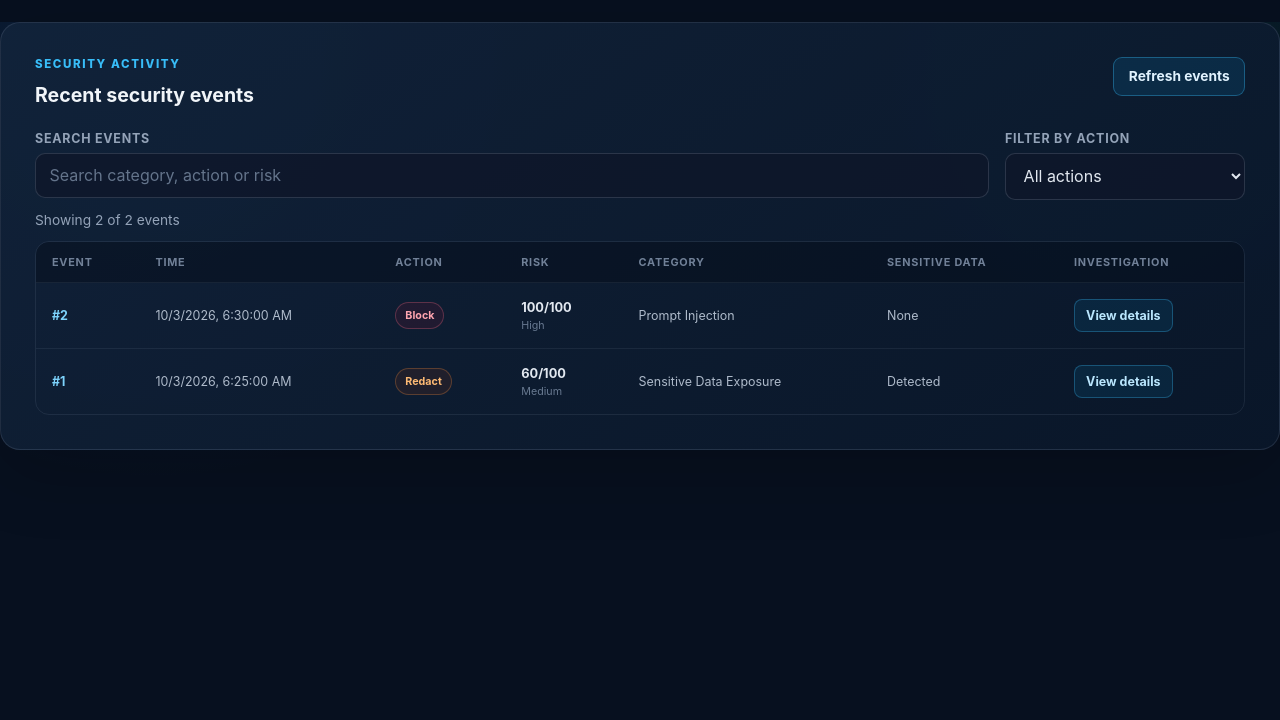
Test: RecentEvents › shows a safe error when refresh fails
The image size is (1280, 720).
Click the button "Refresh events".
click(1179, 76)  # box left=1113, top=57, right=1245, bottom=96
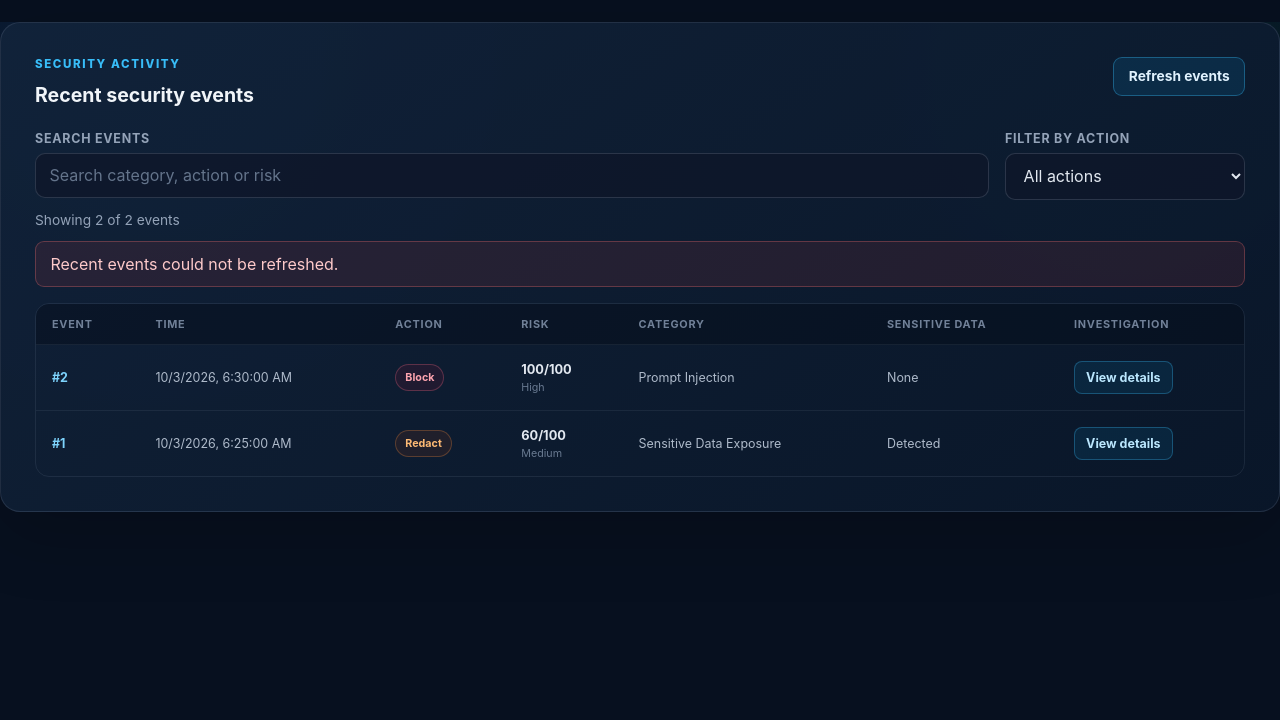
Result: the message reads "Recent events could not be refreshed." at left=50, top=254, right=338, bottom=274
